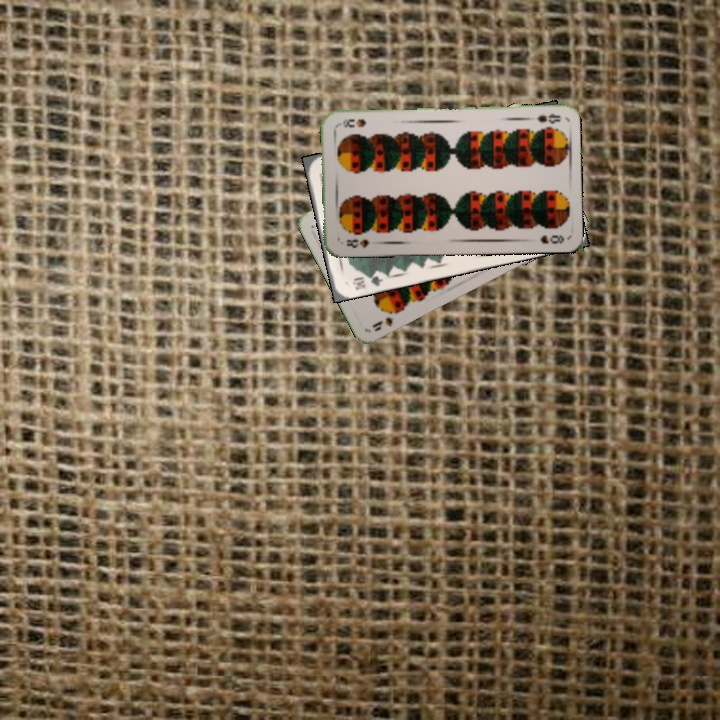G10: (348, 268, 386, 293)
S8: (523, 109, 563, 126), (342, 235, 372, 250)
S9: (368, 306, 404, 334)
